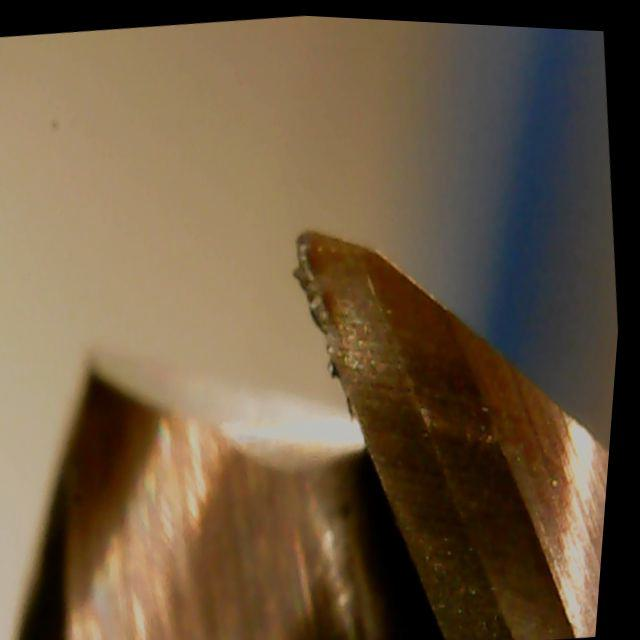Tool-wear-class-1: (261, 208, 466, 466)
